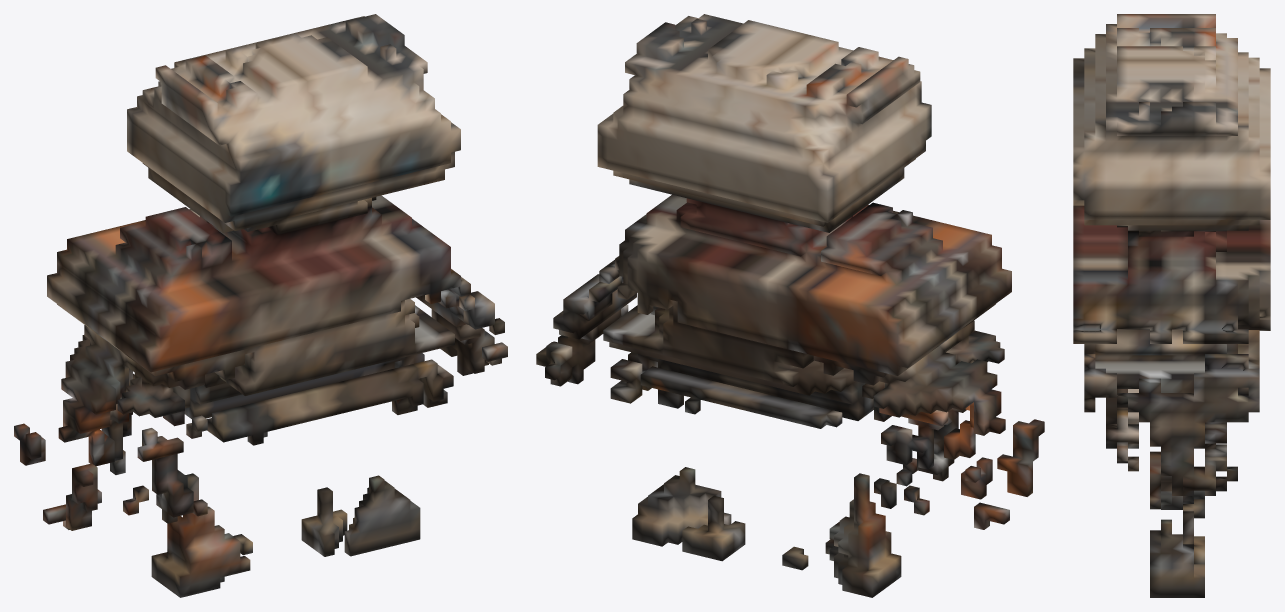
File: sheet3_L8.glb
The picture shows the model from 3 angles, left to right: view 1: azimuth 30°, elevation 25°; view 2: azimuth 150°, elevation 25°; view 3: azimuth 270°, elevation 25°; orthographic projection. The views are drawn at different scales.
Visible parts, largest first — view 1: BPT_sheet3_L8; view 2: BPT_sheet3_L8; view 3: BPT_sheet3_L8.
Boxes of the visible parts, <box> form: BPT_sheet3_L8: <box>14,14,507,597</box>; BPT_sheet3_L8: <box>536,14,1044,597</box>; BPT_sheet3_L8: <box>1073,14,1270,597</box>.
Size of the model in its own units: 1.88 by 2 by 0.75.
